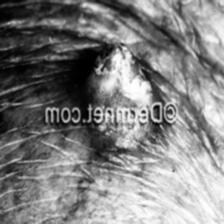Potentially Malignant Skin Tumors: (80, 48, 156, 98), (106, 41, 130, 64)
